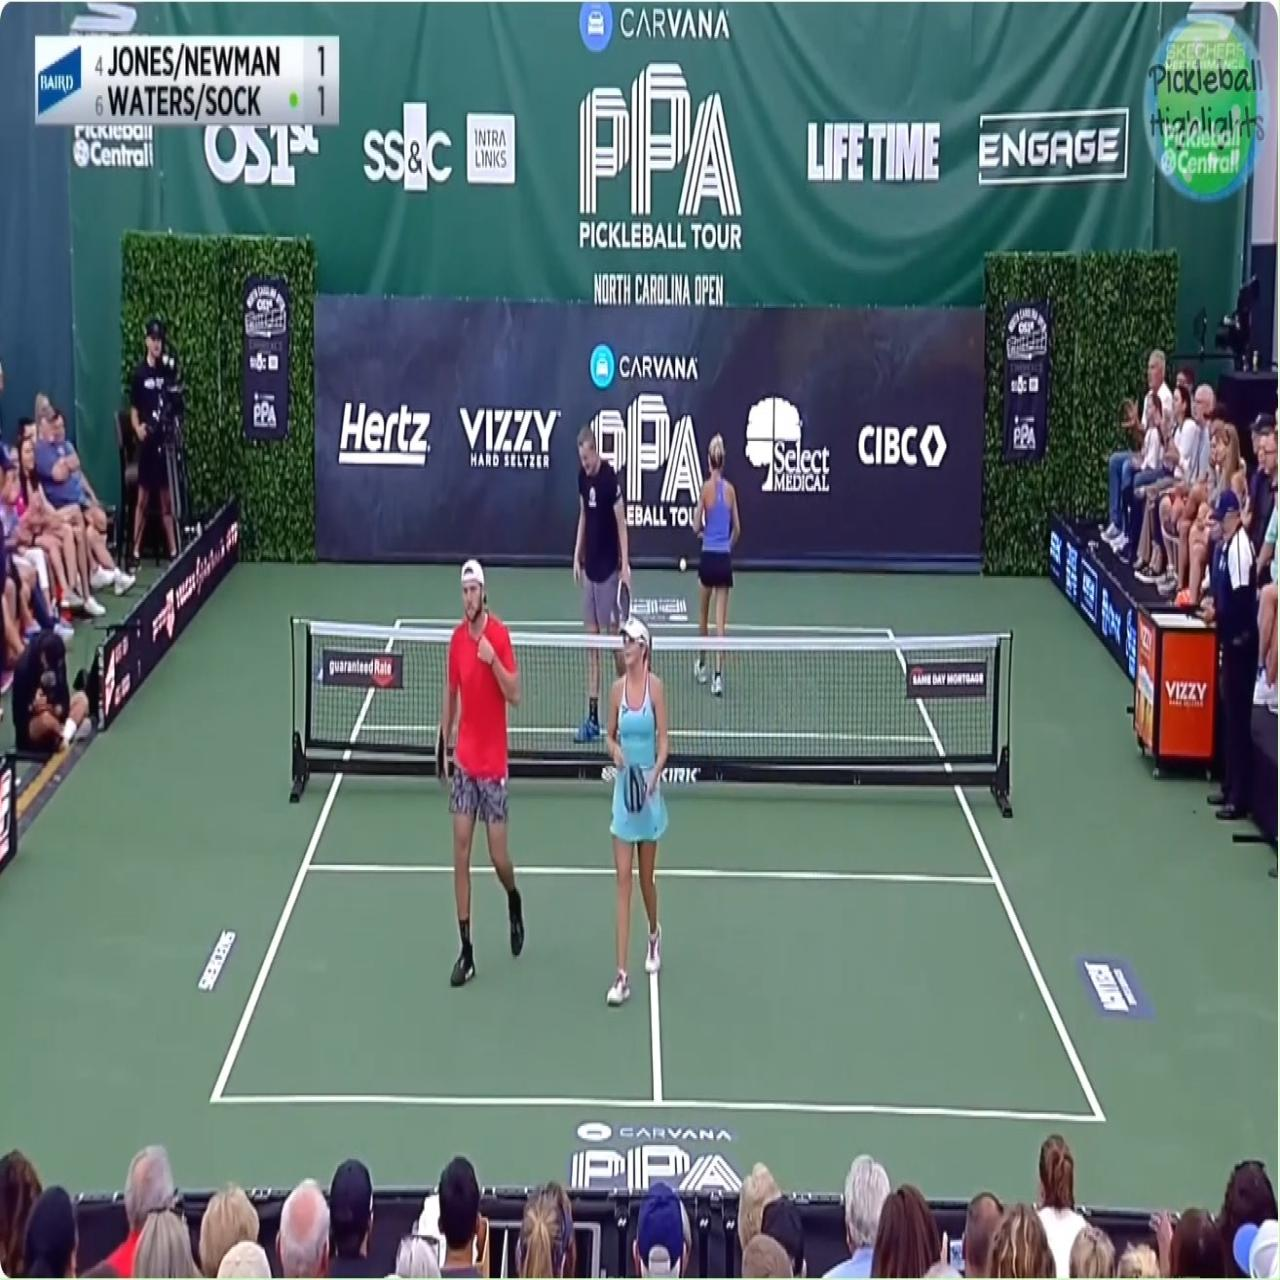pickleball: (678, 557, 687, 571)
